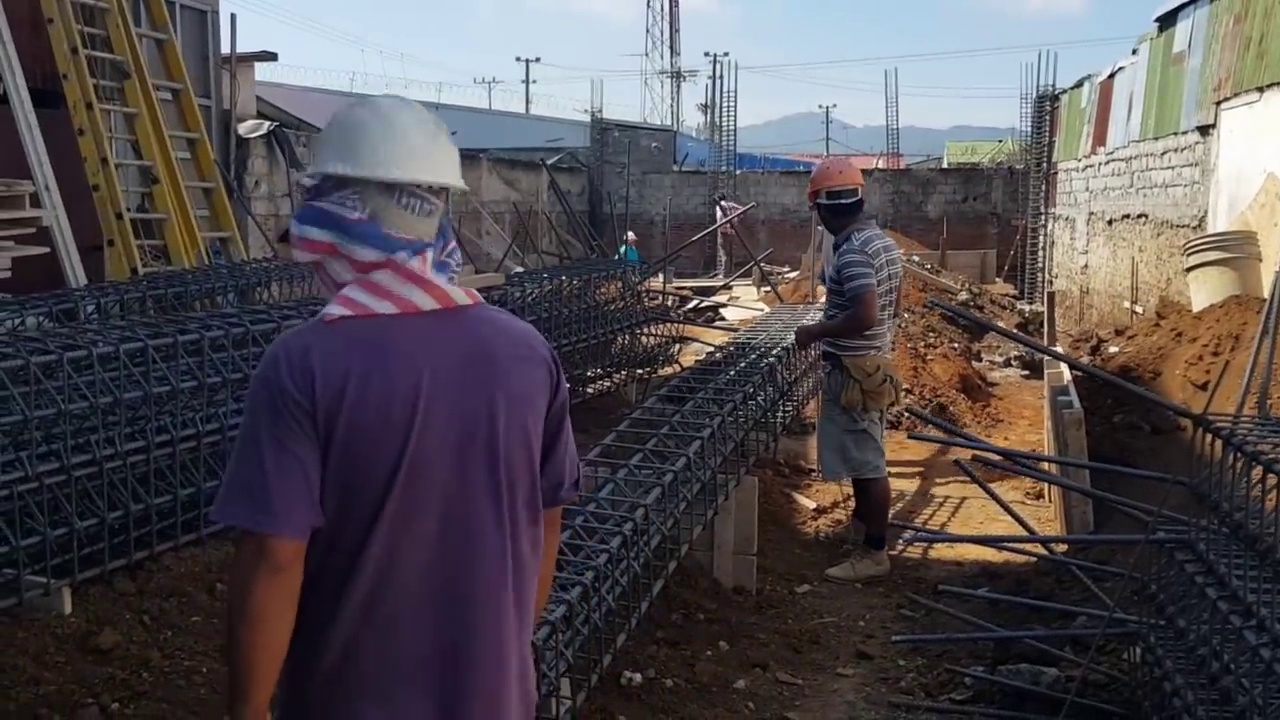helmet: (308, 88, 471, 195), (806, 159, 867, 199), (623, 231, 639, 241)
helmet-off: (714, 191, 727, 203)
helmet-on: (285, 89, 471, 312), (805, 158, 867, 239), (623, 231, 640, 246)
person: (220, 87, 577, 719), (789, 158, 906, 575), (714, 192, 743, 283), (614, 231, 641, 261)
